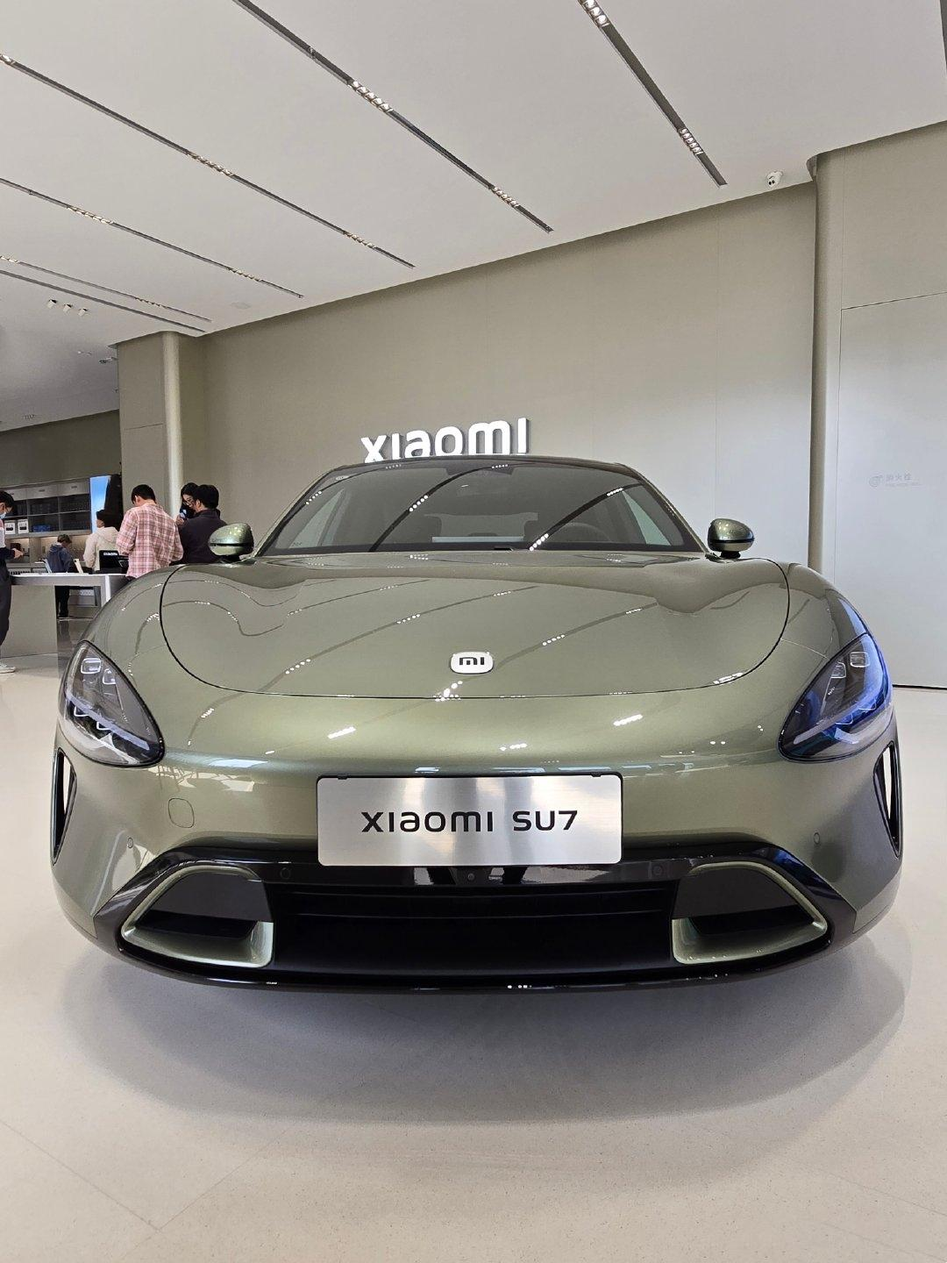su7: (65, 446, 914, 1011)
